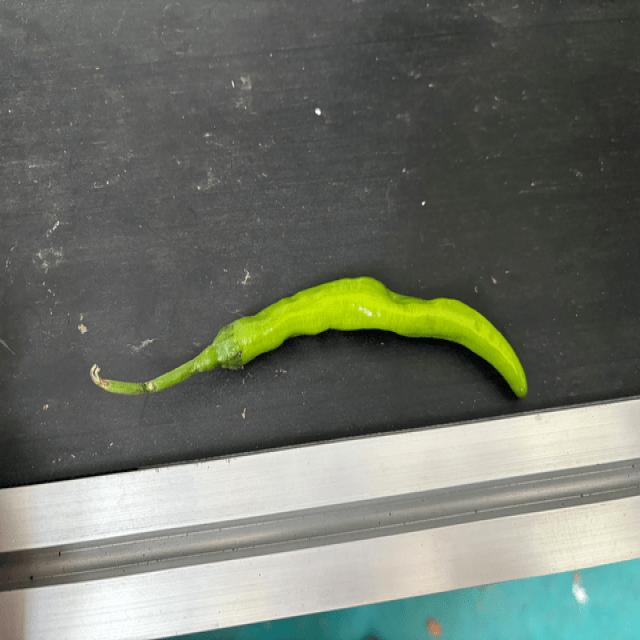chili: (213, 276, 530, 403)
